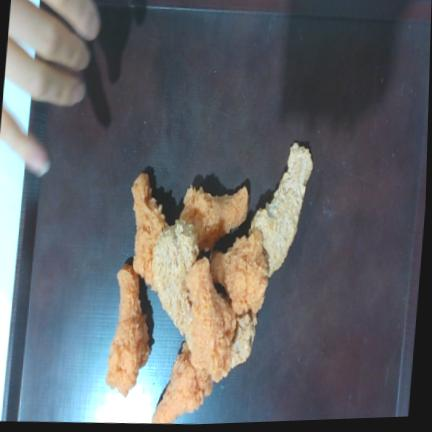chicken: (251, 143, 312, 276), (185, 258, 236, 381), (105, 264, 150, 397), (152, 220, 199, 334), (152, 341, 213, 423), (210, 232, 268, 315), (180, 186, 249, 251), (132, 173, 167, 290)
